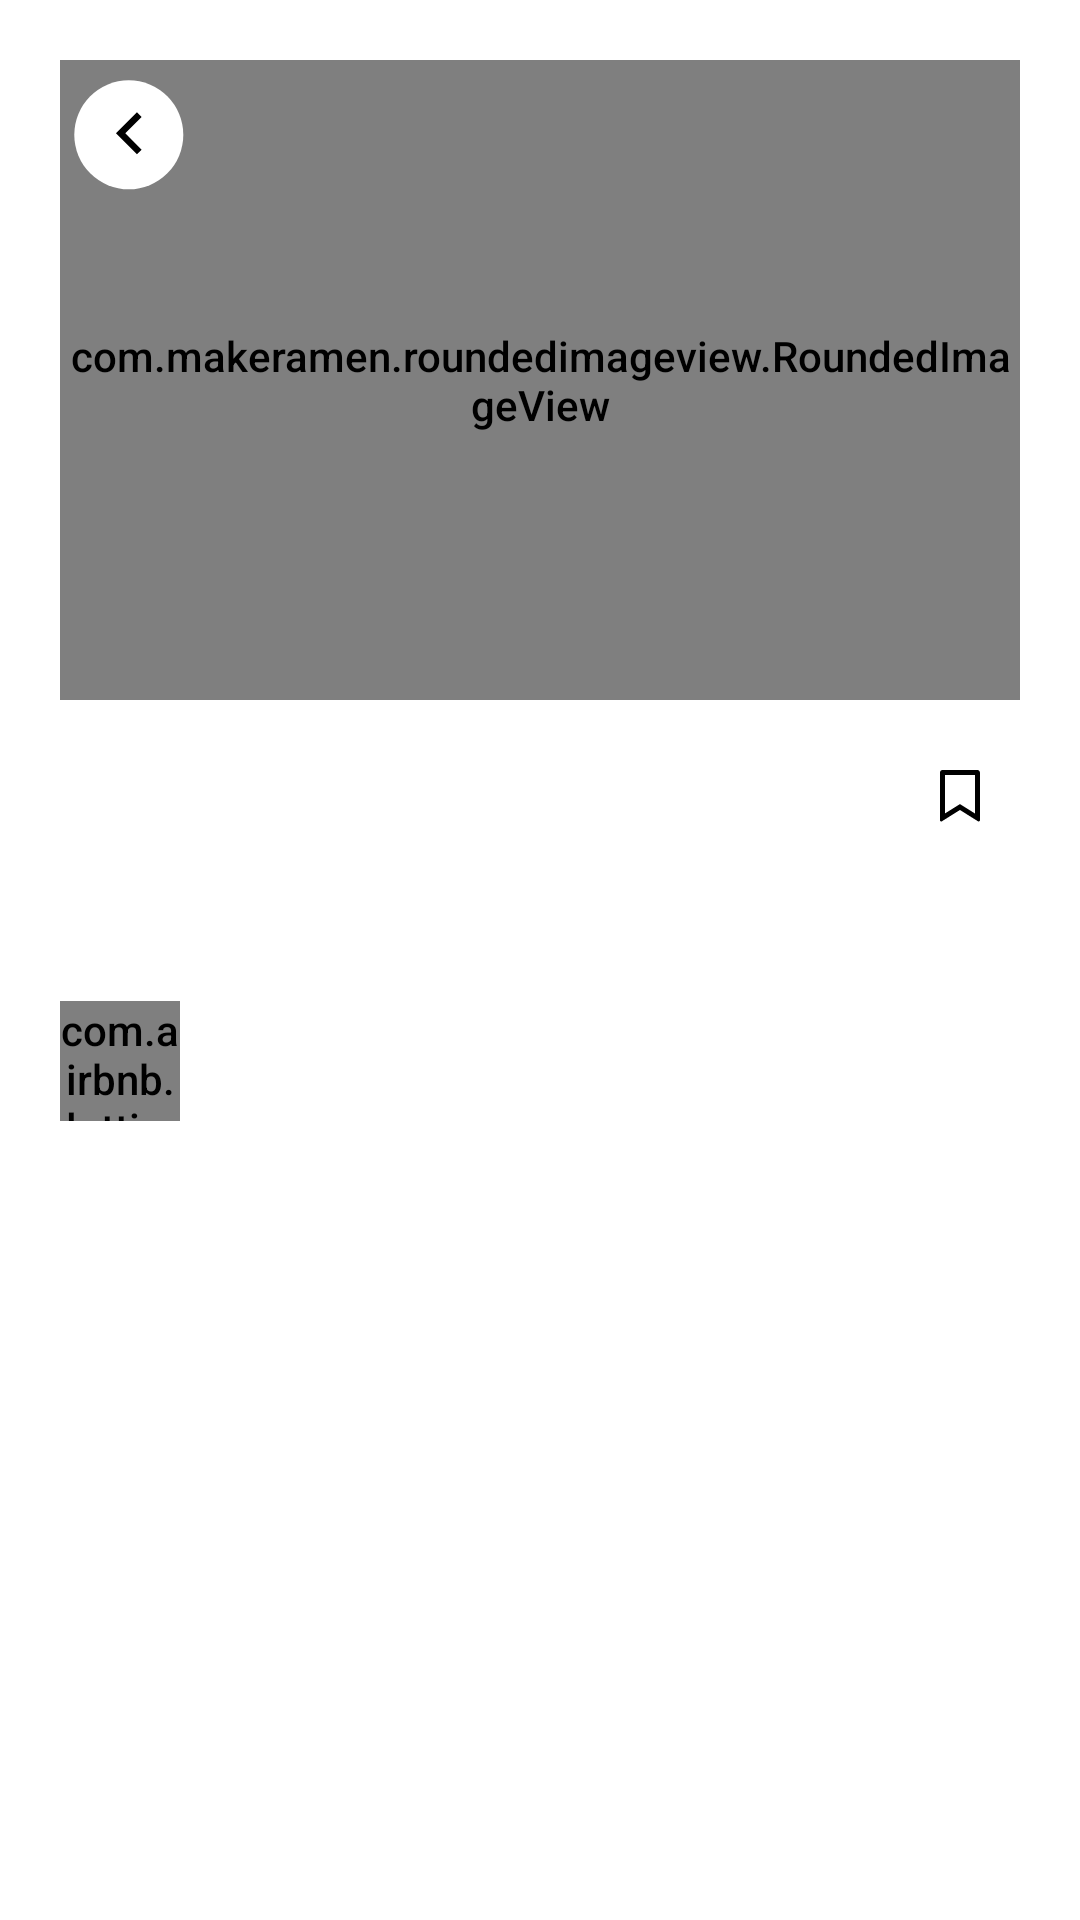

Icon bounding boxes for this 1080px x 1920px phone screenshot, format {"left": x1, "top": y1, "right": x2, "bottom": y2}:
ac bookmark: {"left": 940, "top": 770, "right": 980, "bottom": 822}
back: {"left": 74, "top": 80, "right": 184, "bottom": 190}
